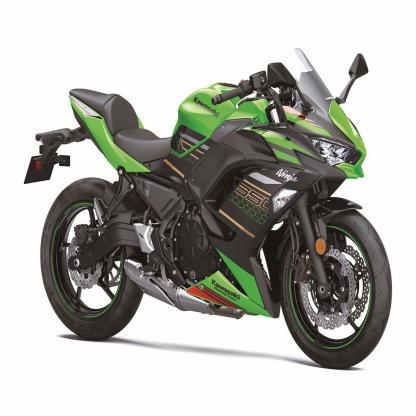Motorcycle: (23, 34, 399, 375)
